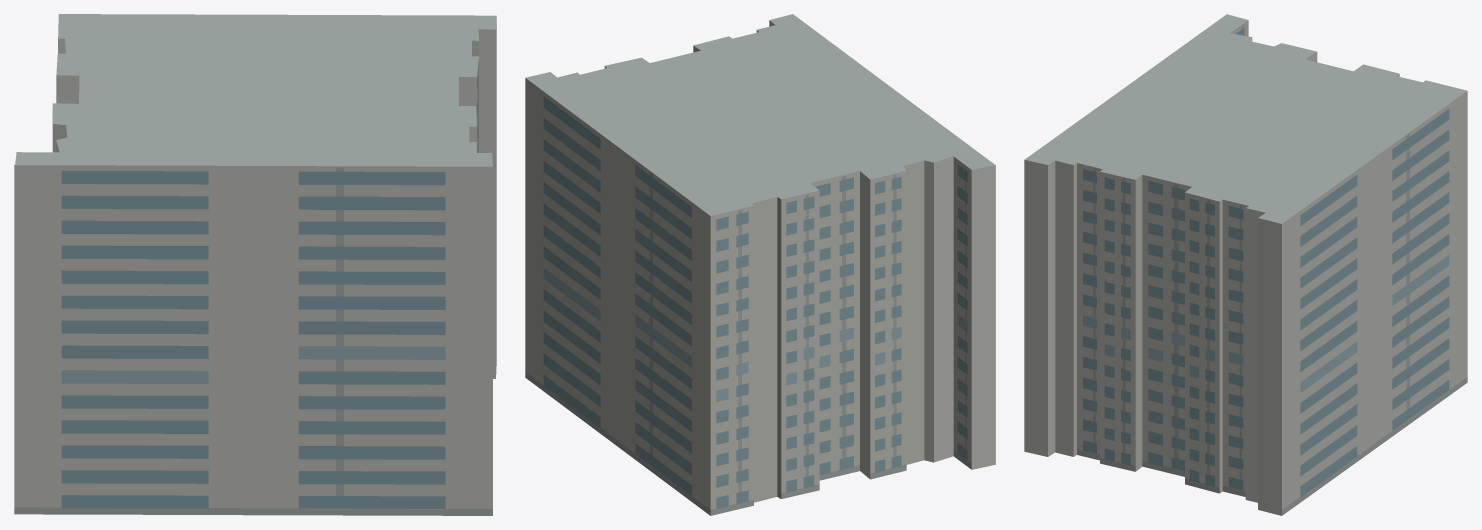
The model's file is survey-upis-32736354.glb.
3 renders of one model, left to right at view 1: azimuth 30°, elevation 25°; view 2: azimuth 150°, elevation 25°; view 3: azimuth 270°, elevation 25°, orthographic. The views are drawn at different scales.
Visible parts, largest first — view 1: survey-upis-32736354.tmp; view 2: survey-upis-32736354.tmp; view 3: survey-upis-32736354.tmp.
Part boxes in pixels (x1,y1,x2,y2): survey-upis-32736354.tmp: (14, 14, 496, 515); survey-upis-32736354.tmp: (525, 14, 995, 515); survey-upis-32736354.tmp: (1024, 14, 1467, 515).
Bounding box in the file's own units: 88.88 × 57.6 × 79.25.
